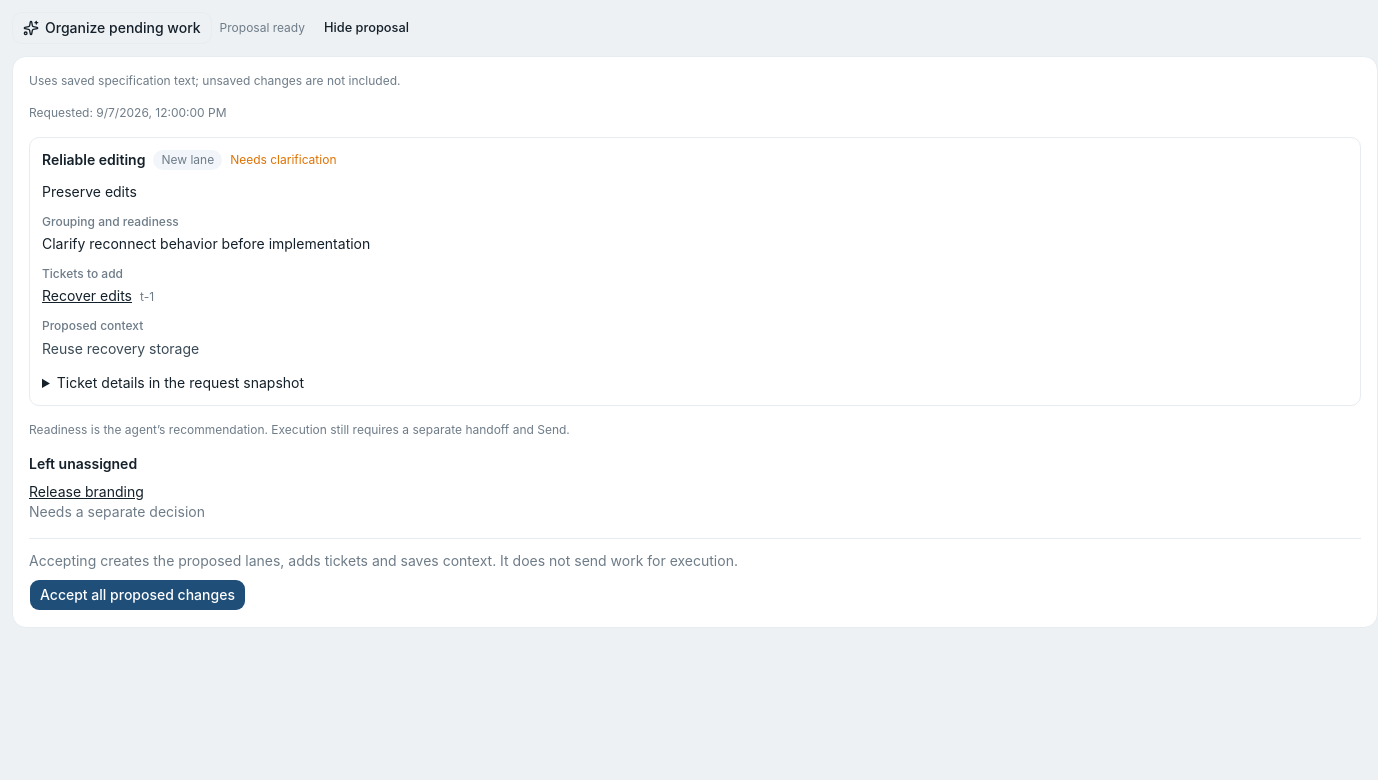
Test case: Lane organizer › preserves proposals after a stale-snapshot rejection
Click the button "Accept all proposed changes": (137, 595) [29,579,246,611]
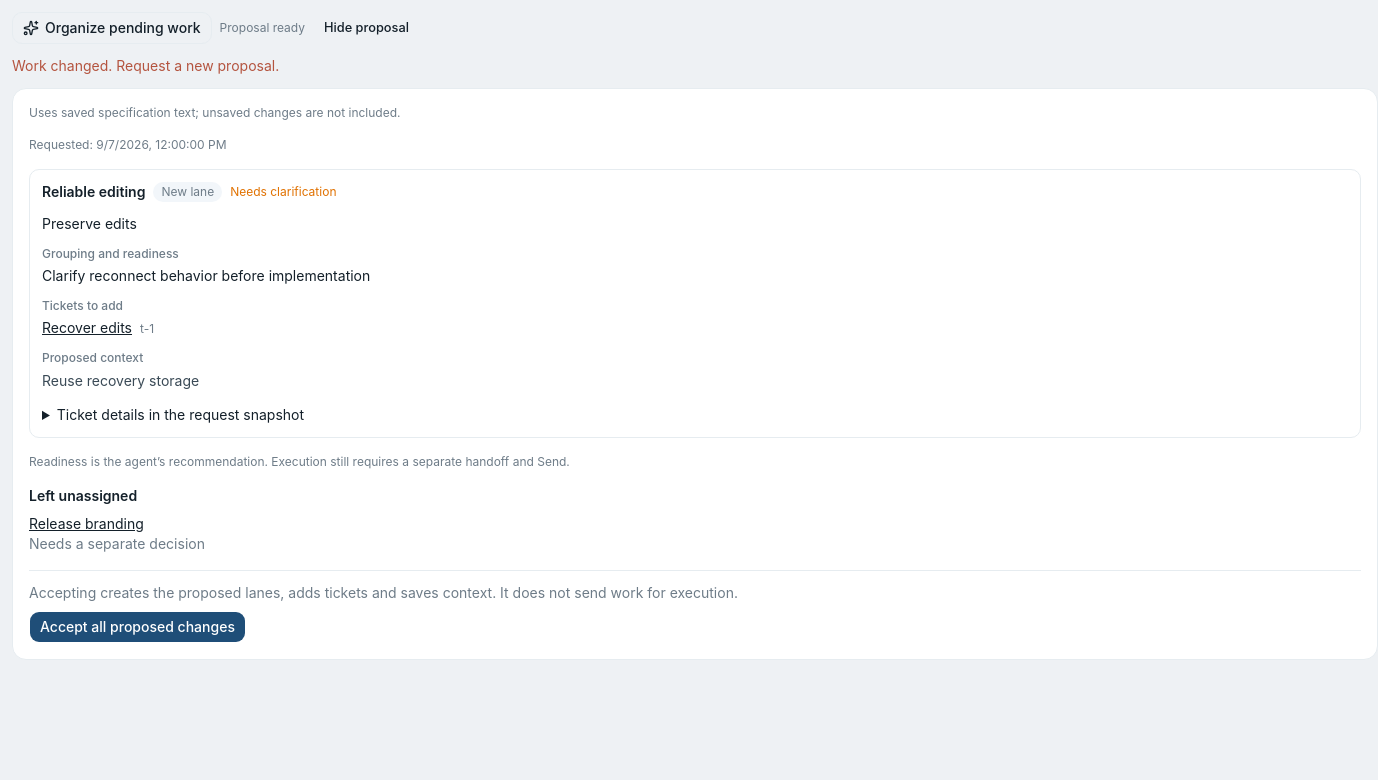
Expected: the heading "Reliable editing" is shown, [42,182,145,202]
Expected: the message "Work changed. Request a new proposal." is shown, [12,57,279,74]
